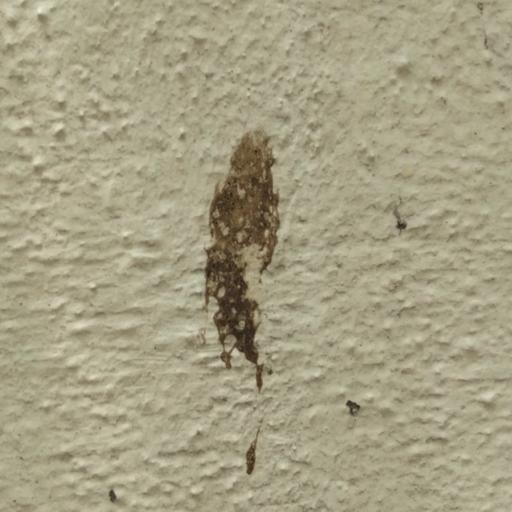stain: (184, 108, 304, 474), (384, 186, 424, 244), (339, 386, 364, 426), (102, 478, 126, 510)
